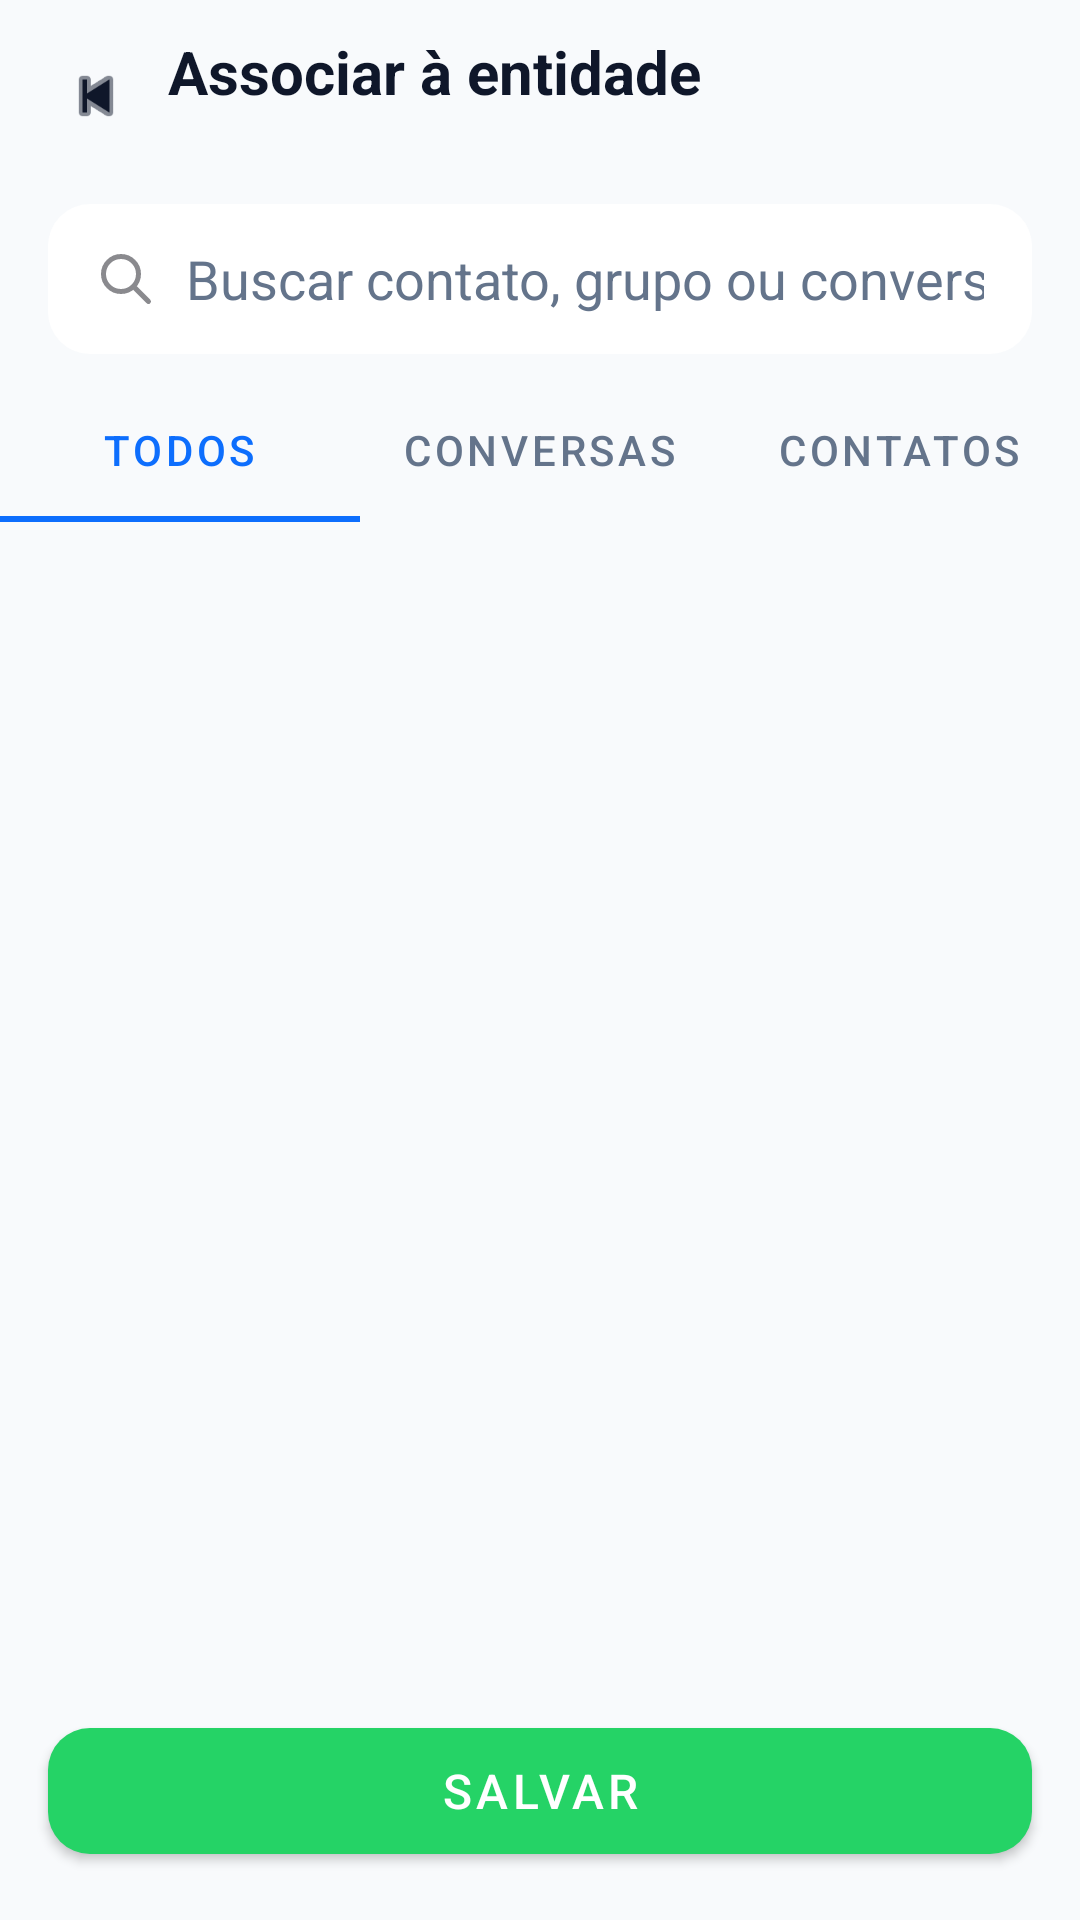

Icons on this 1080x1920 Android screen, each with the point to tap as (x=x, y=y):
Voltar: (x=96, y=96)
